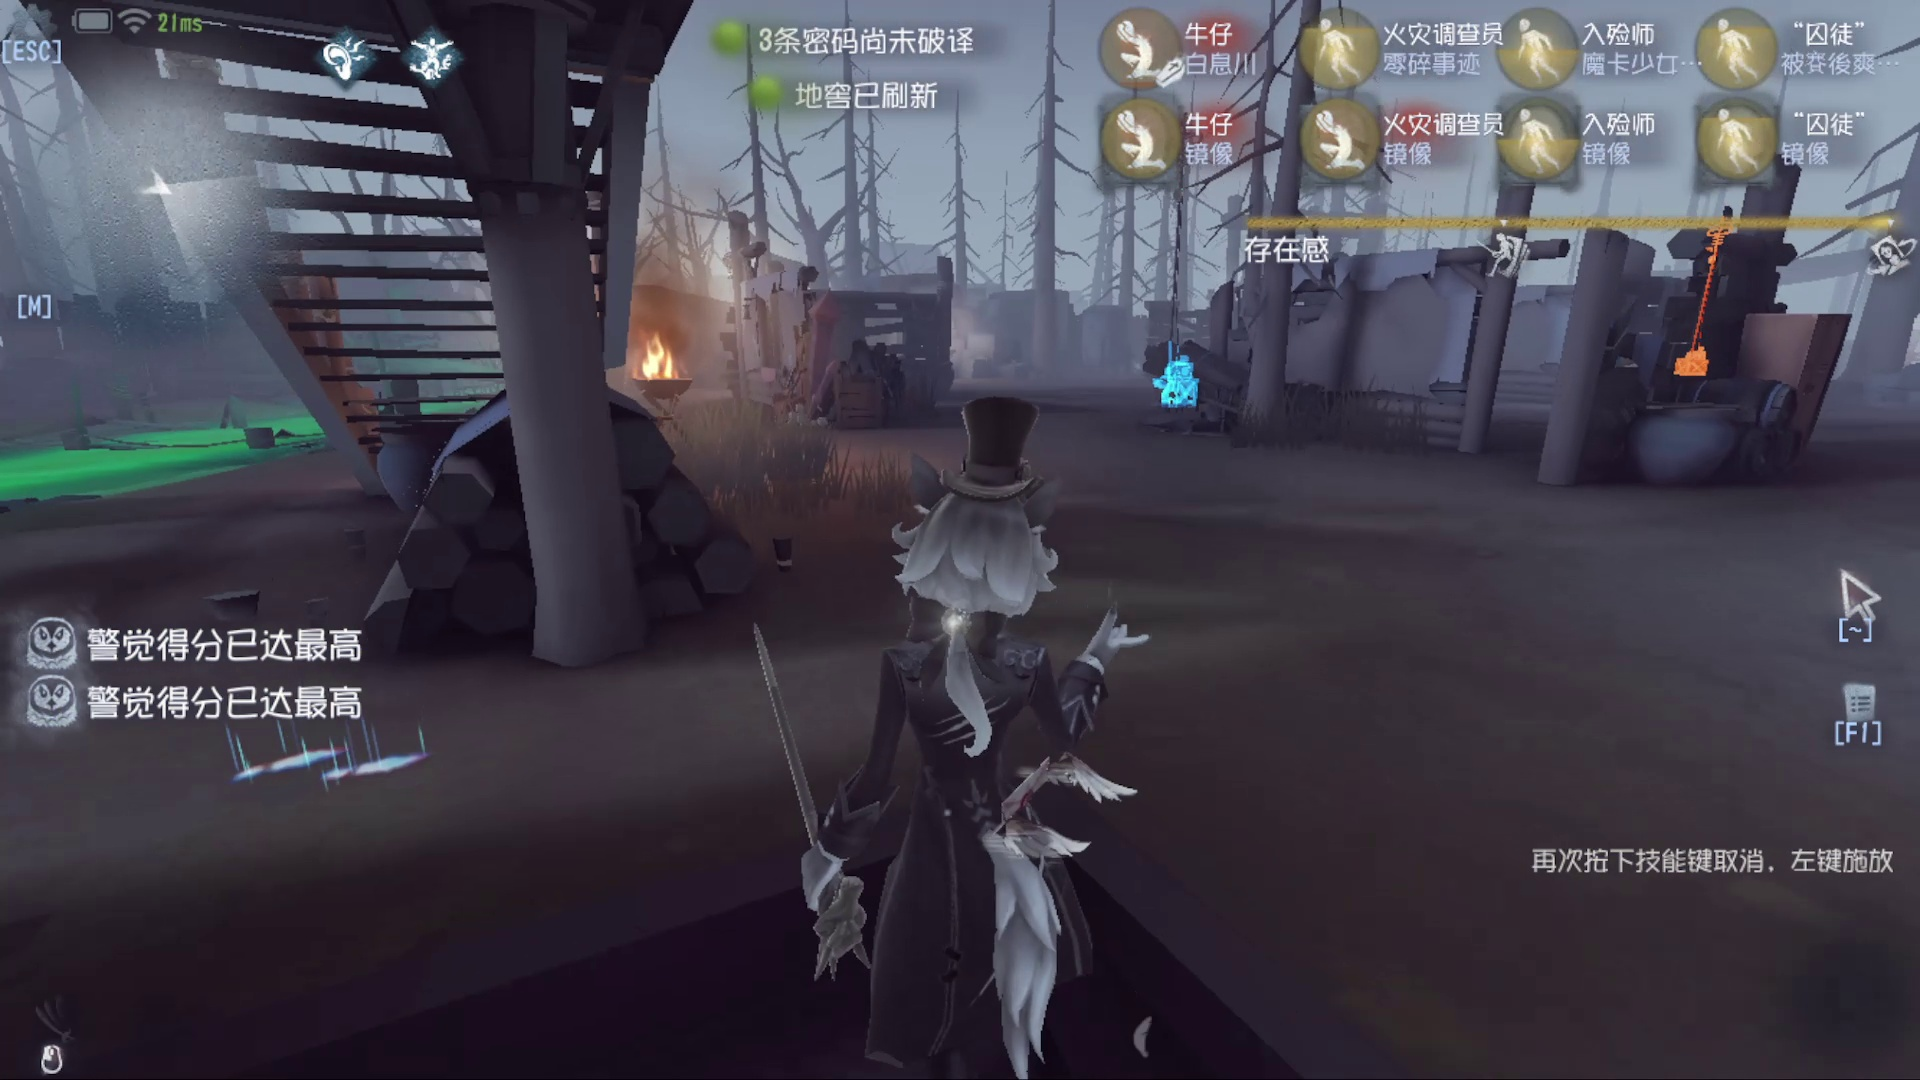密码机: (1131, 171, 1234, 421)
狂欢之椅: (756, 294, 848, 436)
